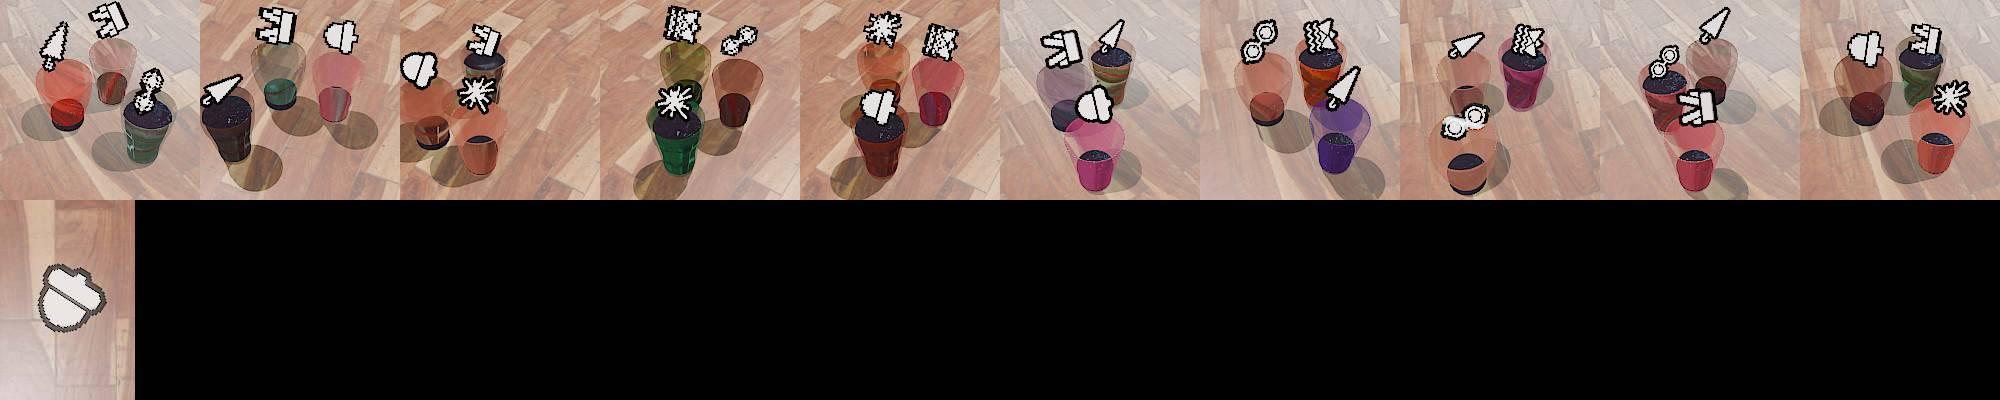icon: (36, 261, 108, 334), (1040, 27, 1085, 69), (1324, 64, 1362, 113), (1444, 102, 1494, 140), (457, 73, 500, 115), (1241, 18, 1281, 64), (256, 5, 298, 47), (131, 66, 167, 115), (1677, 87, 1719, 127), (1074, 83, 1115, 124), (88, 1, 130, 41), (921, 22, 960, 62), (662, 5, 703, 45), (1931, 79, 1973, 117), (862, 10, 903, 48), (38, 20, 69, 71), (401, 51, 439, 90), (860, 87, 898, 126), (203, 73, 244, 108), (323, 18, 360, 56), (466, 22, 504, 59), (1847, 29, 1884, 66), (1302, 18, 1338, 55), (1509, 22, 1545, 59), (657, 84, 693, 120), (1648, 45, 1682, 82), (1698, 6, 1731, 45), (721, 24, 758, 57), (1909, 23, 1944, 57), (1449, 31, 1485, 60), (1096, 18, 1125, 52)
